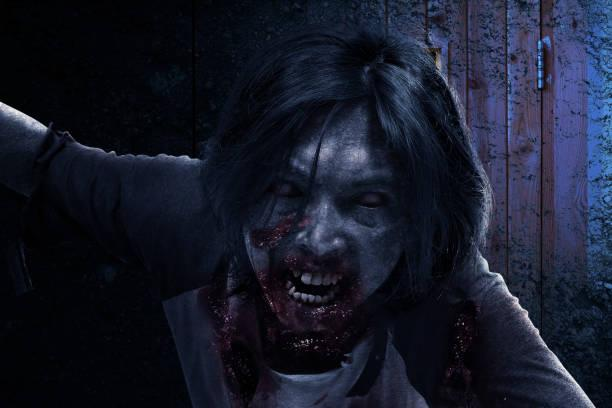Zombie: (236, 113, 416, 366)
